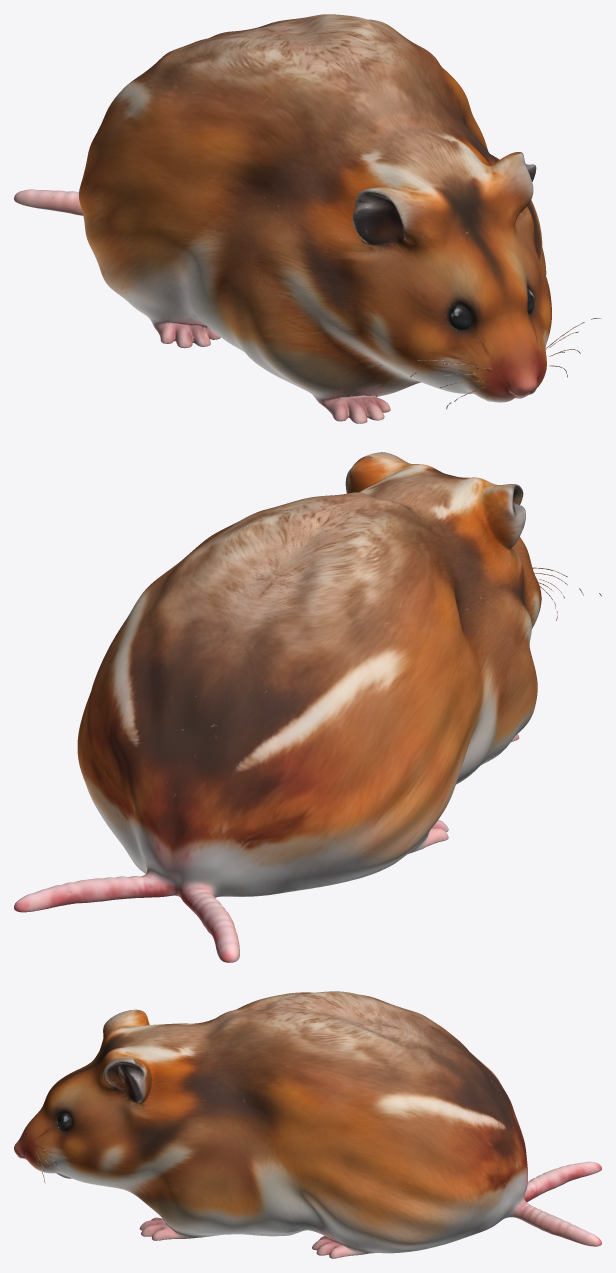
Rendered from hamster.glb.
The picture shows the model from 3 angles, top to bottom: view 1: azimuth 30°, elevation 25°; view 2: azimuth 150°, elevation 25°; view 3: azimuth 270°, elevation 25°; orthographic projection. The views are drawn at different scales.
Bounding box in the file's own units: 0.9604 × 0.7488 × 2.
1 material, 1 textured.
